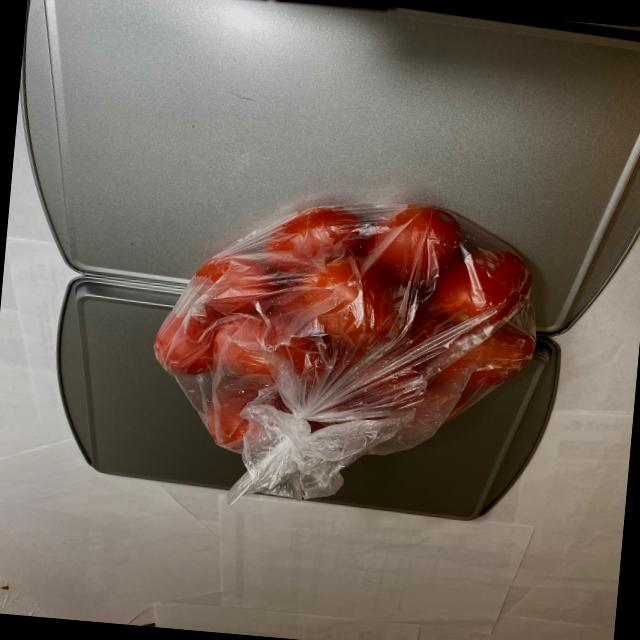tomato: (148, 173, 546, 472)
